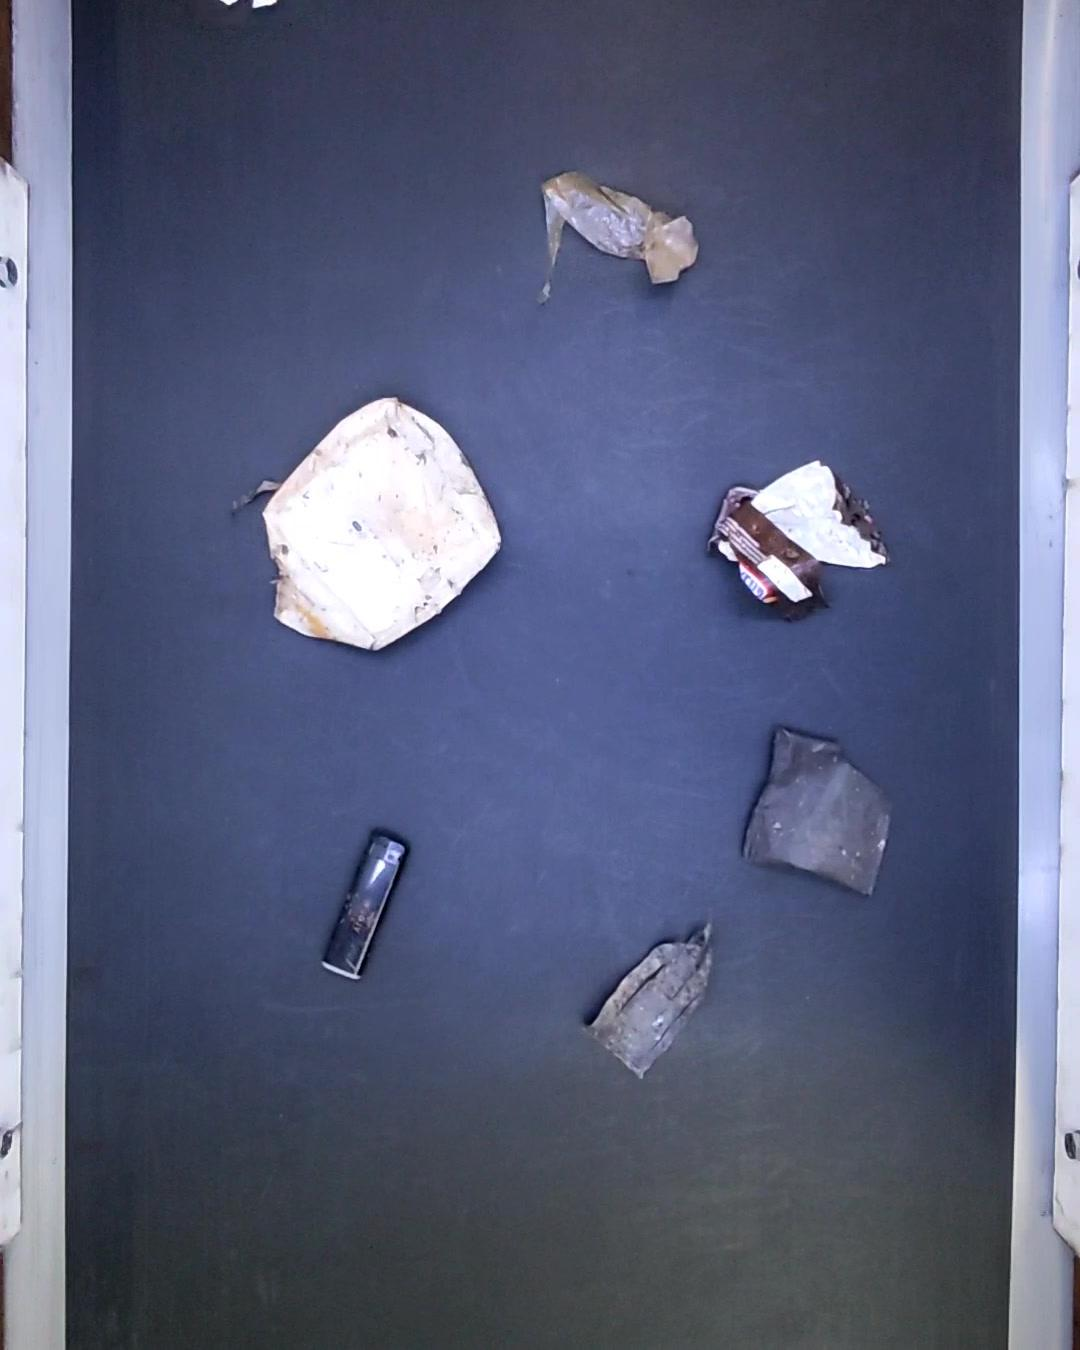Plastic folies of stukken daarvan 2.5- 50 cm: (529, 164, 695, 314)
Snoep snack en chips verpakkingen: (710, 456, 887, 623)
